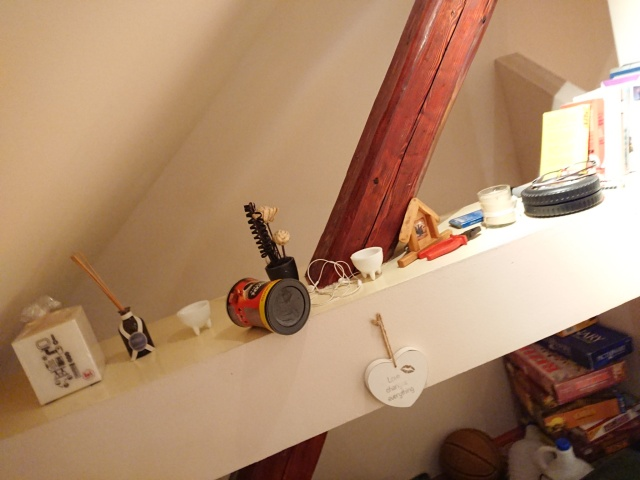Nescafe Classic 225g: (223, 275, 314, 338)
